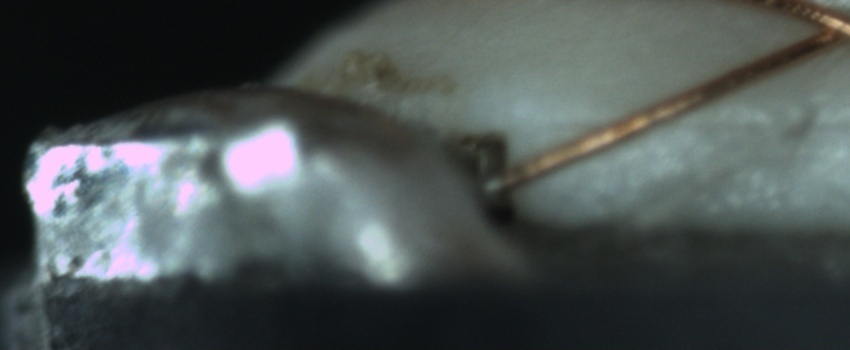CL: (791, 4, 850, 56)
DL: (548, 89, 850, 154)
